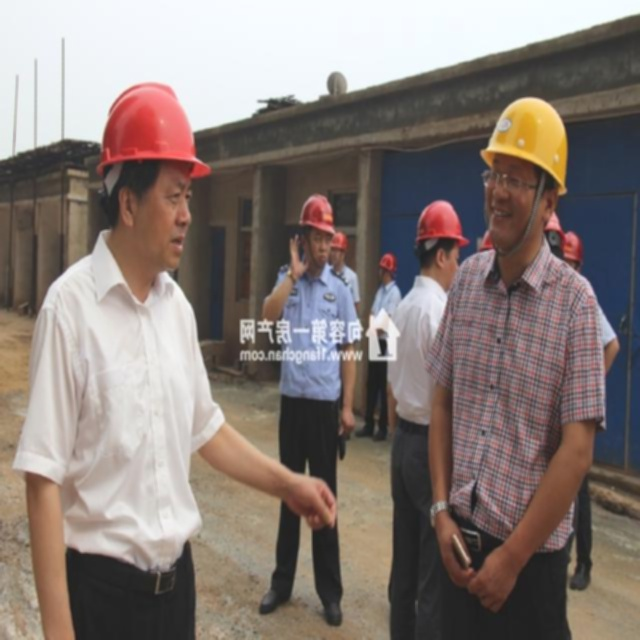Con_Casco: (99, 80, 208, 272), (478, 97, 570, 257)
Sin_Chaleco: (35, 261, 207, 552), (433, 253, 595, 548)
